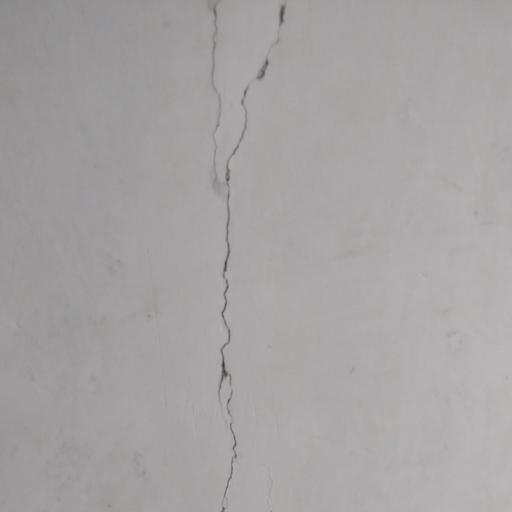major_crack: (209, 0, 291, 512)
